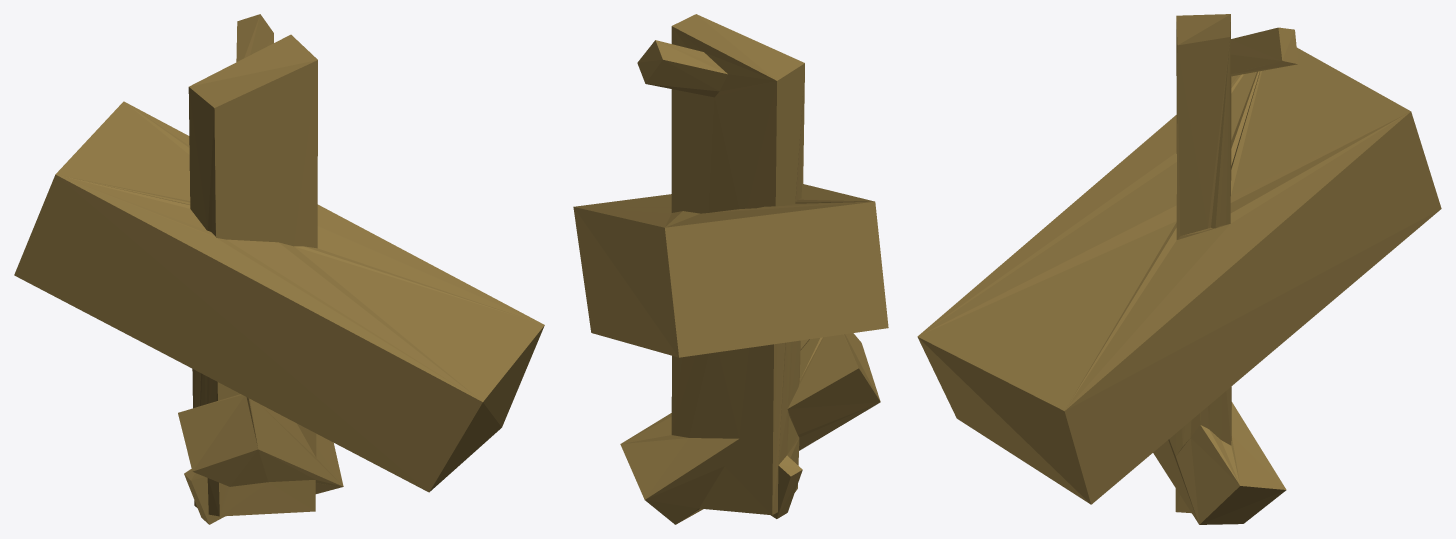
The picture shows the model from 3 angles, left to right: view 1: azimuth 30°, elevation 25°; view 2: azimuth 150°, elevation 25°; view 3: azimuth 270°, elevation 25°; orthographic projection. The views are drawn at different scales.
Visible parts, largest first — view 1: 733_Cube.2941; view 2: 733_Cube.2941; view 3: 733_Cube.2941.
Part boxes in pixels (left/top/right/bottom): 733_Cube.2941: left=14, top=14, right=544, bottom=524; 733_Cube.2941: left=573, top=14, right=888, bottom=524; 733_Cube.2941: left=917, top=14, right=1441, bottom=524.
Size of the model in its own units: 12.05 by 13.2 by 12.6.
